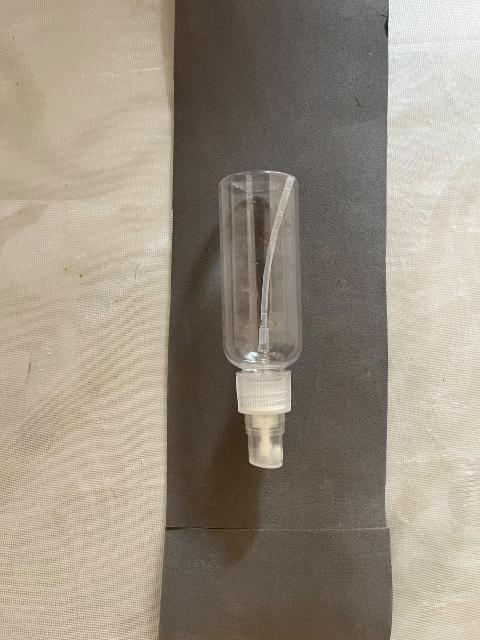PET: (187, 135, 353, 499)
